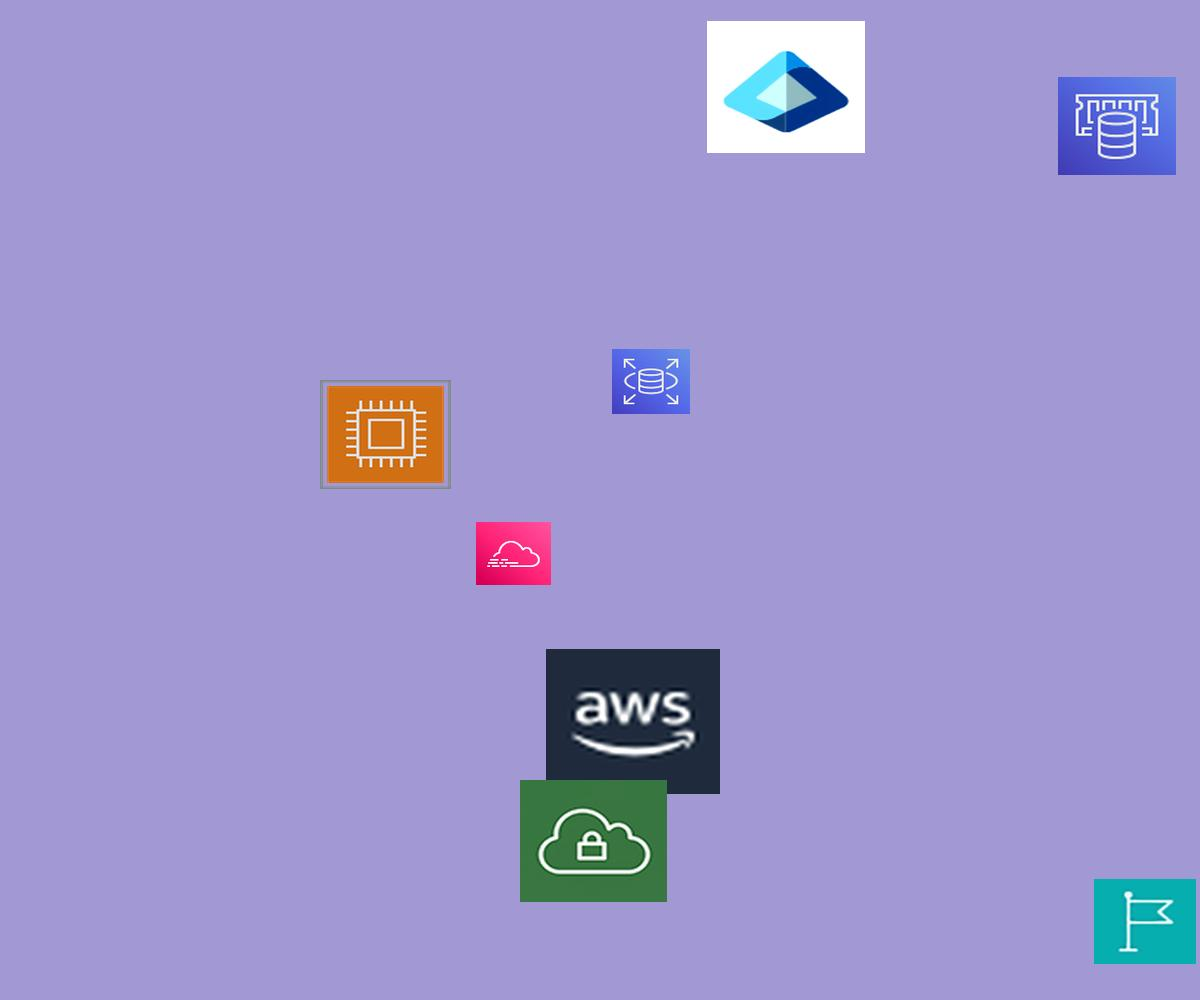AWS-Category_Compute: (320, 380, 451, 489)
AWS-Cloud-logo: (546, 649, 720, 794)
AWS-CloudTrail: (476, 522, 551, 585)
AWS-ElastiCache: (1058, 77, 1176, 175)
AWS-Private_vpc: (520, 780, 667, 902)
AWS-RDS: (612, 349, 690, 414)
AWS-Region: (1094, 879, 1196, 964)
Azure_microsoft_entra: (707, 21, 865, 153)
